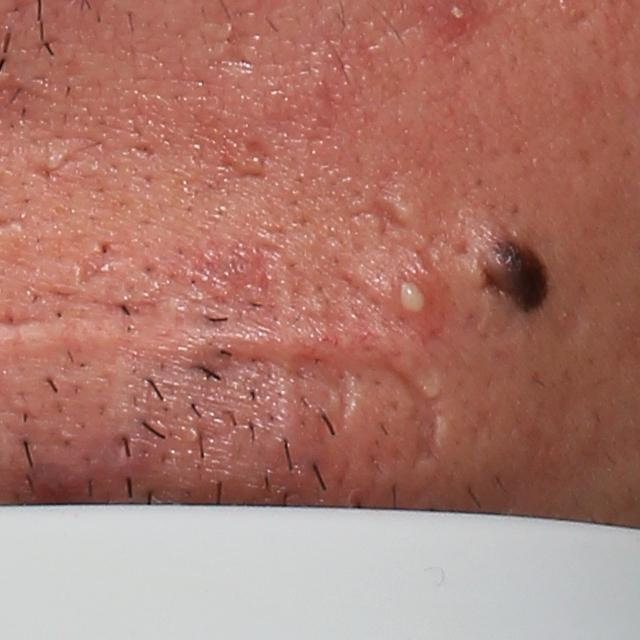atrophic_scar: (71, 237, 134, 287), (228, 135, 280, 187), (362, 183, 401, 239), (129, 140, 160, 162)
nevus: (470, 230, 560, 318)
pustule: (391, 277, 433, 318)
